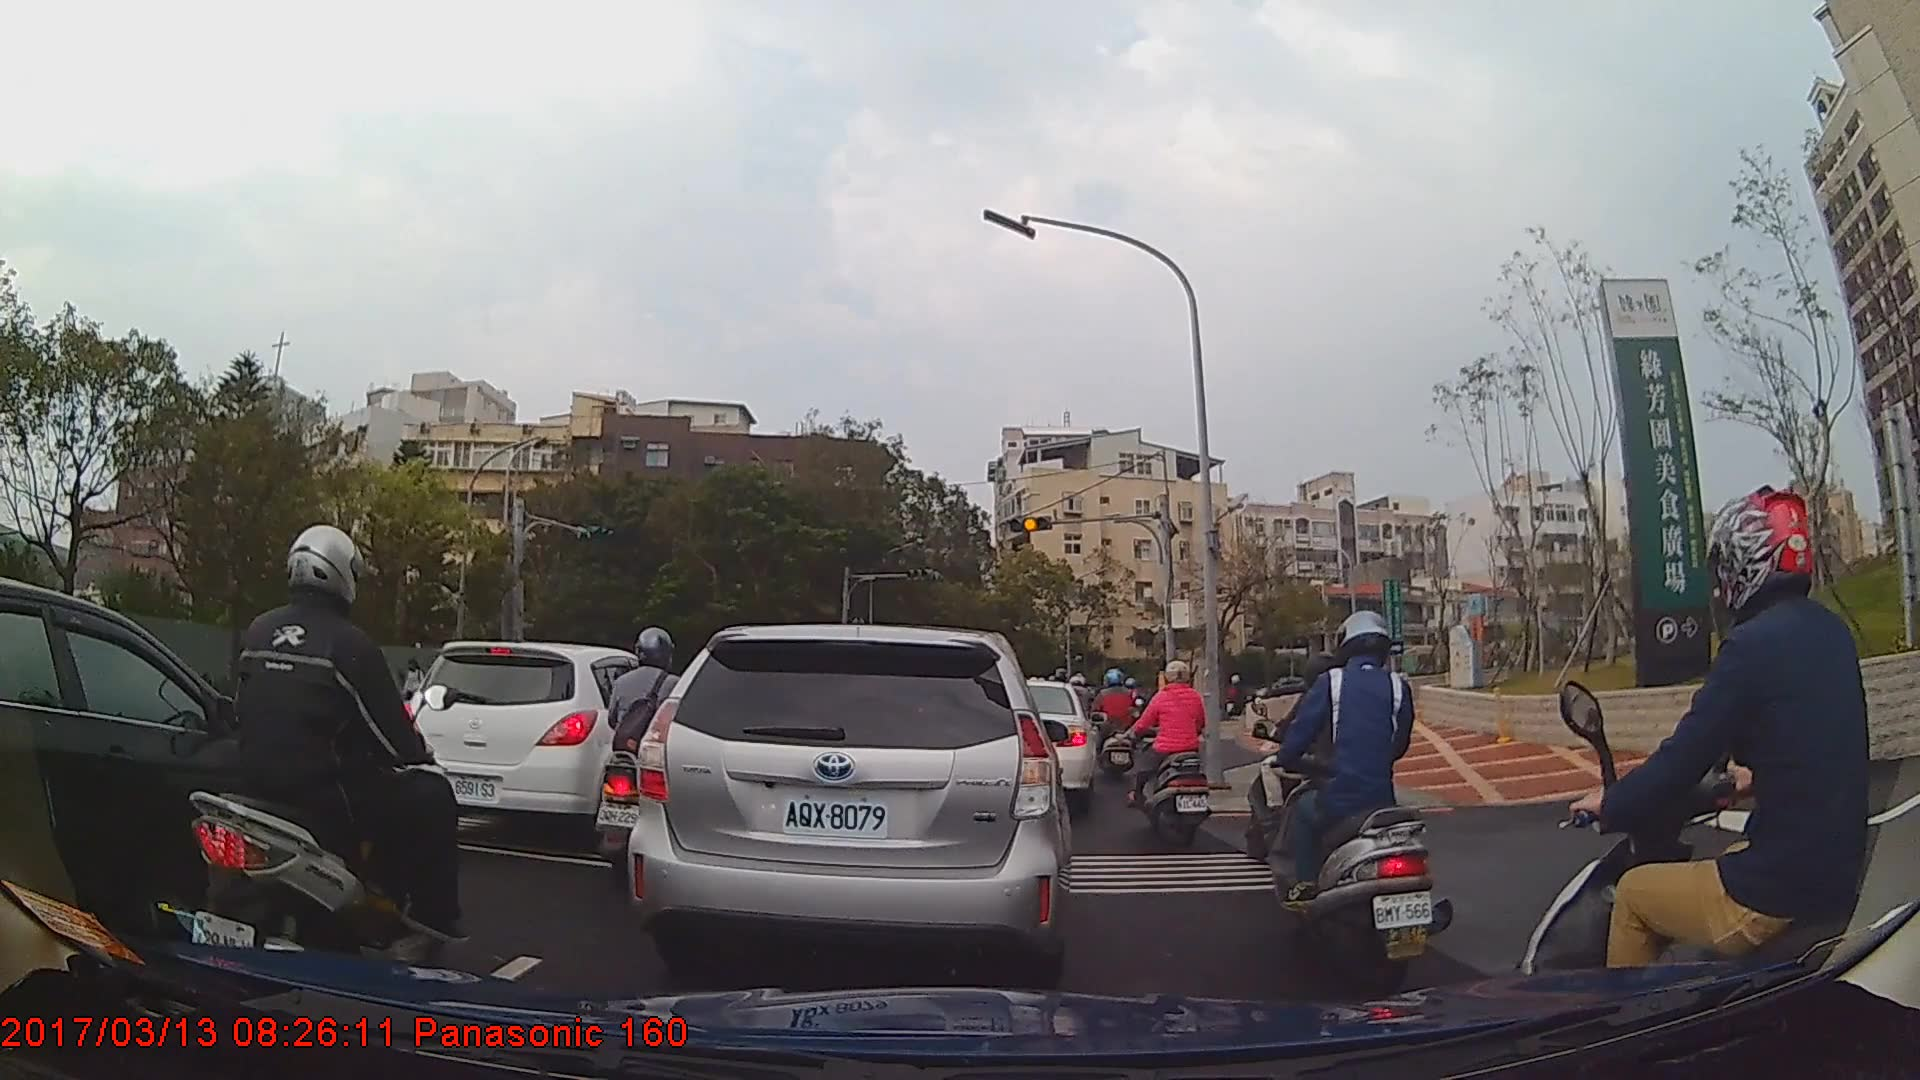rider: (1519, 485, 1920, 1080), (191, 523, 467, 1015), (1255, 610, 1445, 1004), (594, 626, 703, 887), (1137, 663, 1211, 853), (1091, 667, 1142, 779)
vehicle: (624, 624, 1072, 982), (0, 572, 357, 942), (395, 635, 669, 851), (991, 679, 1097, 806)
